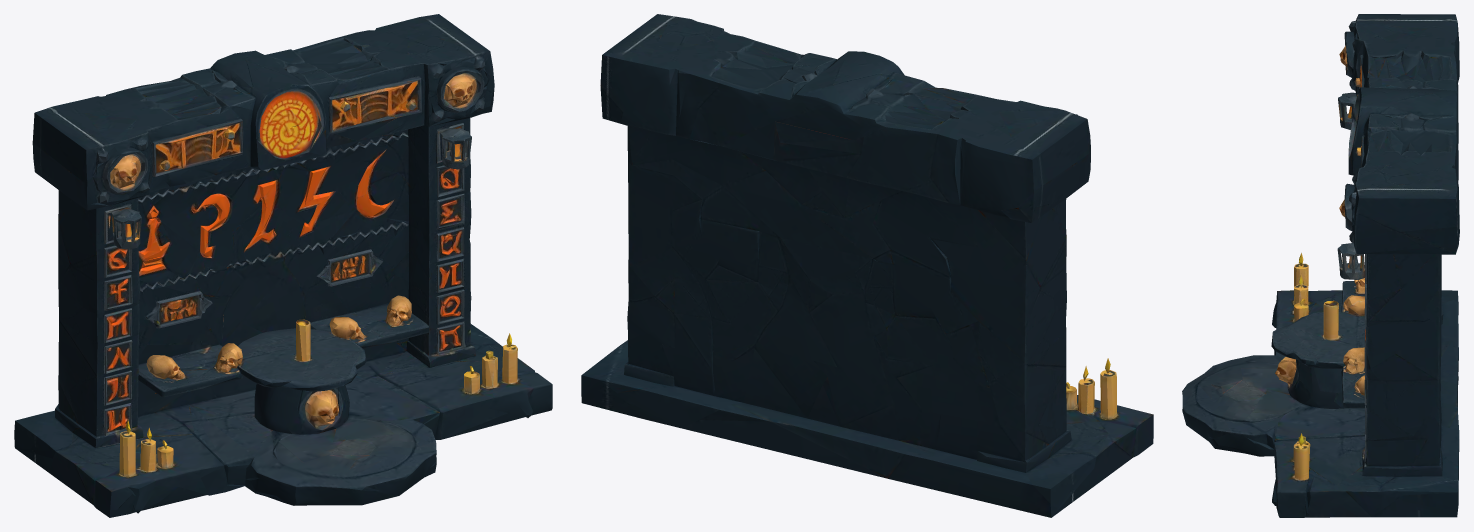
Rendered from shrine.glb.
3 views of the same model, side by side, from view 1: azimuth 30°, elevation 25°; view 2: azimuth 150°, elevation 25°; view 3: azimuth 270°, elevation 25° (orthographic). The views are drawn at different scales.
Bounding box in the file's own units: 1.9 × 1.42 × 1.1.
1 material, 1 textured.
